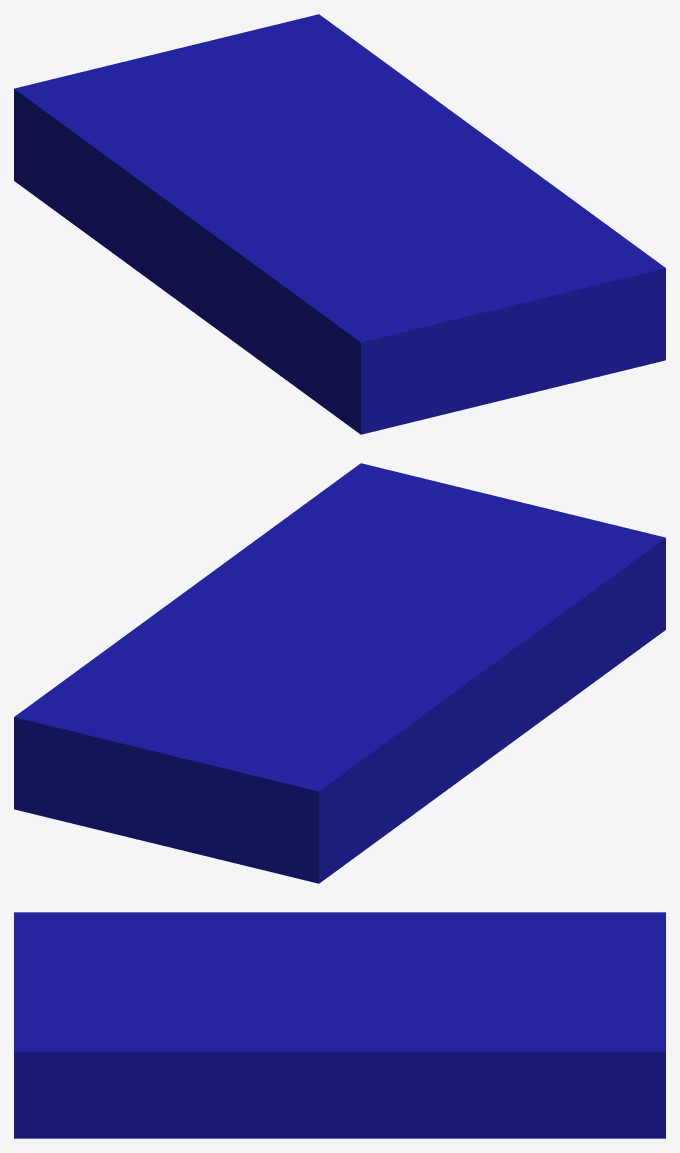
Rendered from Basic_Foot.FBX.
3 renders of one model, top to bottom at view 1: azimuth 30°, elevation 25°; view 2: azimuth 150°, elevation 25°; view 3: azimuth 270°, elevation 25°, orthographic. The views are drawn at different scales.
Visible parts, largest first — view 1: Object002; view 2: Object002; view 3: Object002.
Part boxes in pixels (x1,y1,x2,y2): Object002: (14, 14, 665, 434); Object002: (14, 463, 665, 883); Object002: (14, 912, 665, 1138).
Bounding box in the file's own units: 6.77 × 1.96 × 13.33.
